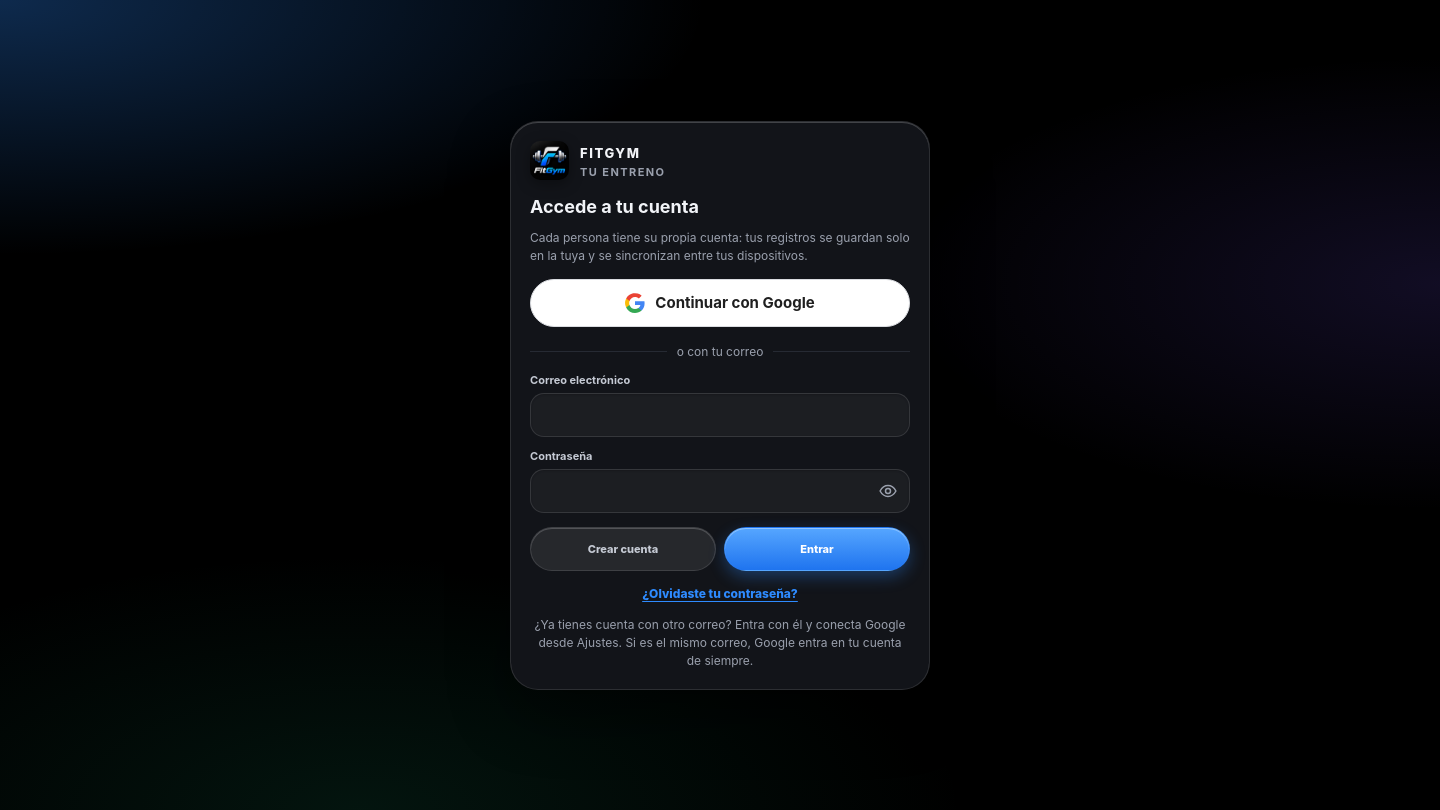
Scenario: Acceso · entrar con Google › mientras se abre Google no se puede pulsar otra vez
Click the button "Continuar con Google" at (720, 302), box [530,278,910,326]
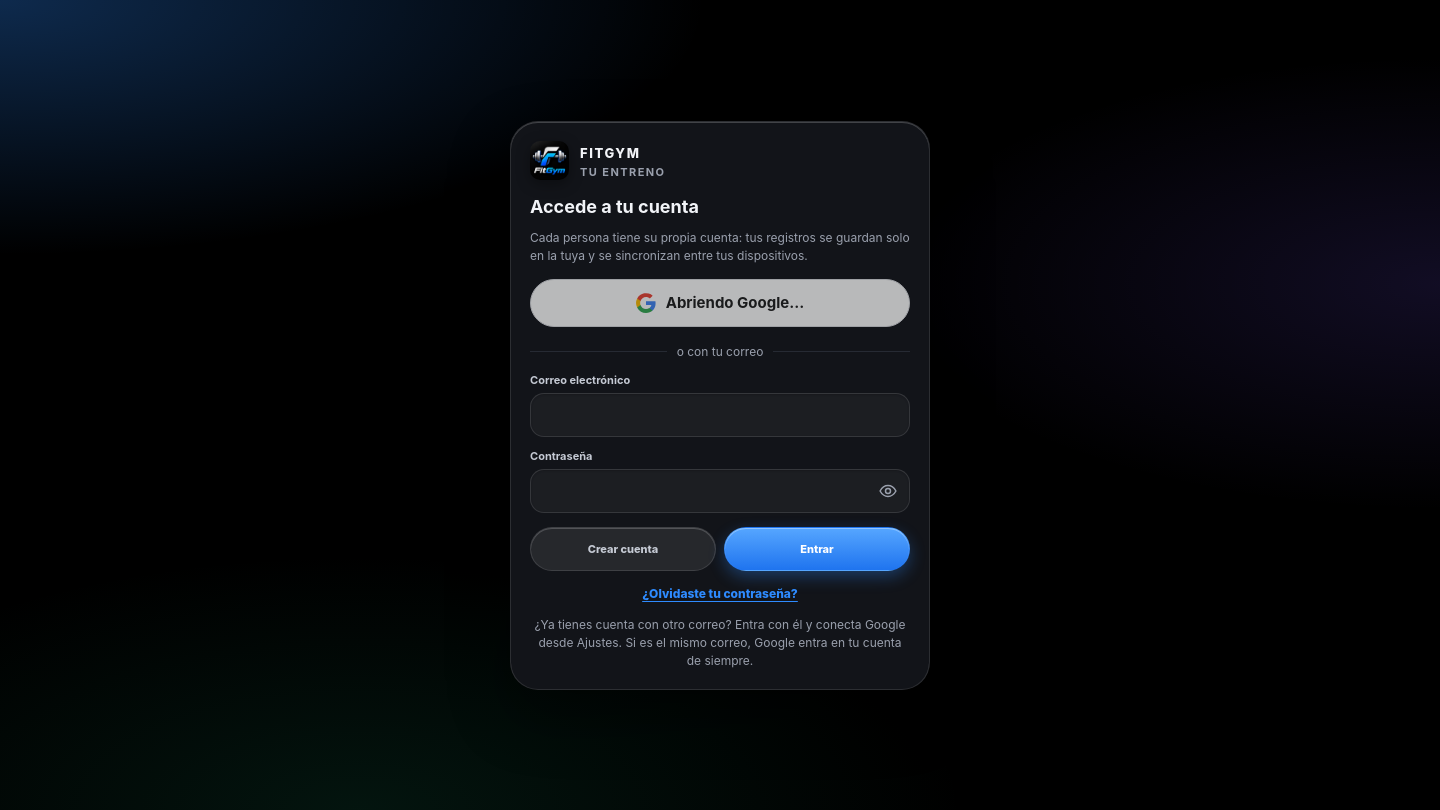
Now the button "Abriendo Google…" is disabled, box [530,278,910,326]
